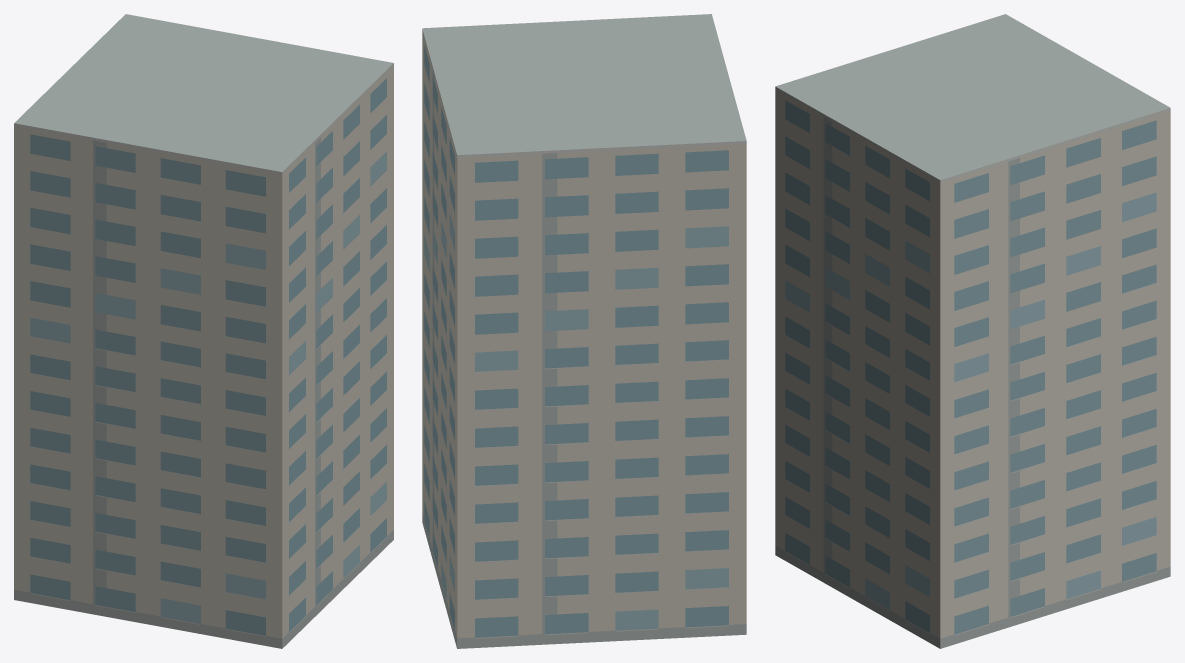
Rendered from residential-fb2d365e-593a-4e69-a6e0-58c454fe0ab2.glb.
The picture shows the model from 3 angles, left to right: view 1: azimuth 30°, elevation 25°; view 2: azimuth 150°, elevation 25°; view 3: azimuth 270°, elevation 25°; orthographic projection. The views are drawn at different scales.
Parts seen in each view (by area): view 1: residential-fb2d365e-593a-4e69-a6e0-58c454fe0ab2.tmp; view 2: residential-fb2d365e-593a-4e69-a6e0-58c454fe0ab2.tmp; view 3: residential-fb2d365e-593a-4e69-a6e0-58c454fe0ab2.tmp.
Part boxes in pixels (bbox=[...]): residential-fb2d365e-593a-4e69-a6e0-58c454fe0ab2.tmp: bbox=[14, 14, 393, 648]; residential-fb2d365e-593a-4e69-a6e0-58c454fe0ab2.tmp: bbox=[422, 14, 746, 648]; residential-fb2d365e-593a-4e69-a6e0-58c454fe0ab2.tmp: bbox=[775, 14, 1170, 648].
Size of the model in its own units: 32.71 by 43 by 32.89.
